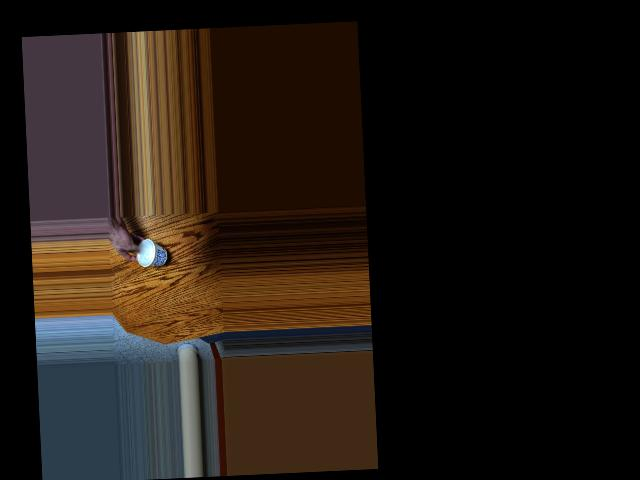cotage: (136, 243, 170, 267)
